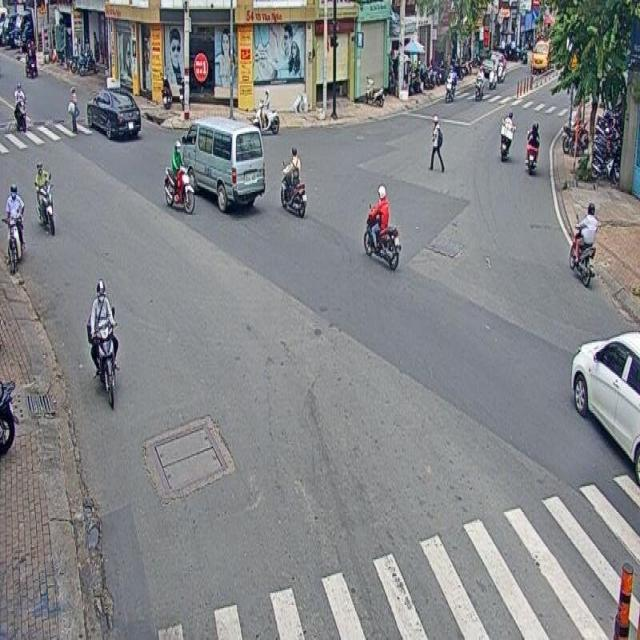car: (569, 325, 640, 477), (85, 87, 139, 142)
motorcycle: (83, 273, 119, 411), (363, 184, 399, 266), (570, 204, 599, 288), (164, 142, 194, 215), (280, 140, 306, 220), (4, 176, 26, 270), (34, 162, 56, 240)
truck: (182, 119, 264, 213)
